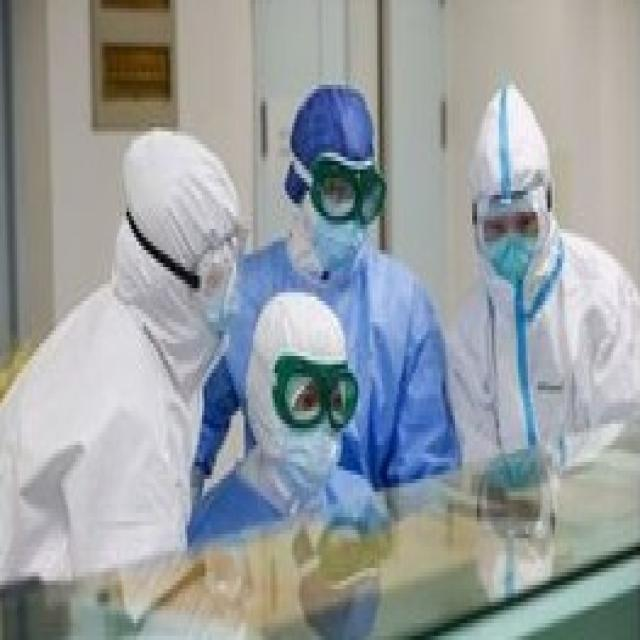Goggles: (273, 348, 360, 432), (311, 157, 387, 229)
Mask: (311, 199, 370, 284), (287, 411, 346, 471), (482, 233, 540, 284)
